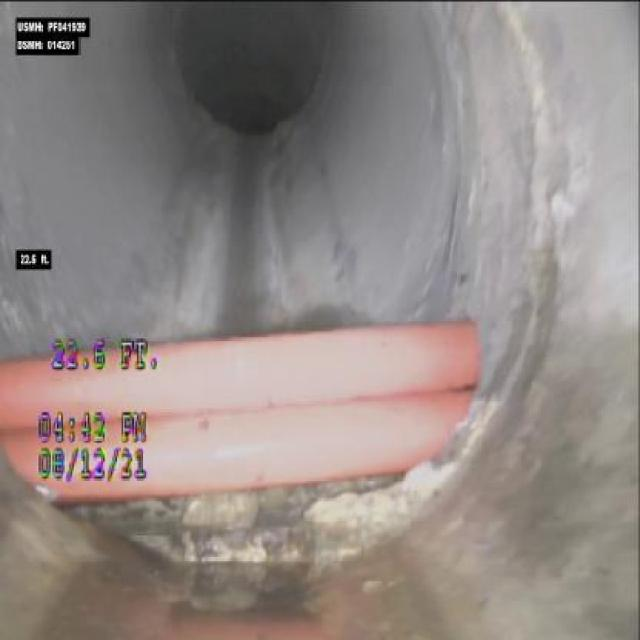Utility intrusion: (0, 314, 486, 509)
